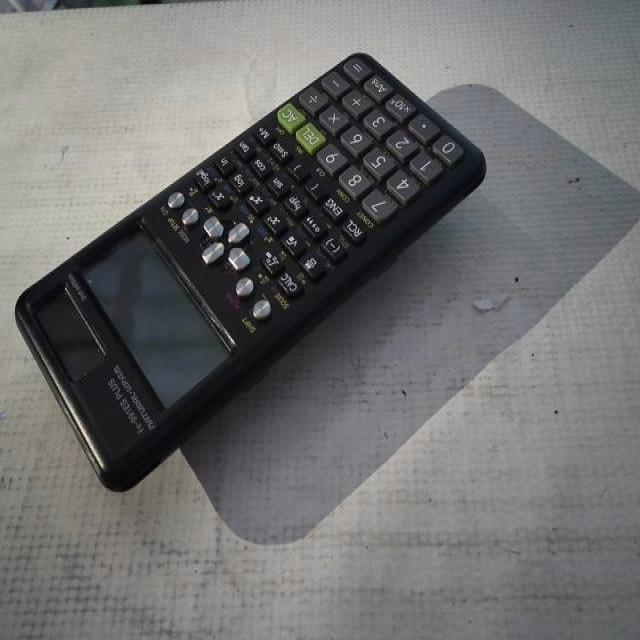Calculator: (12, 48, 489, 494)
